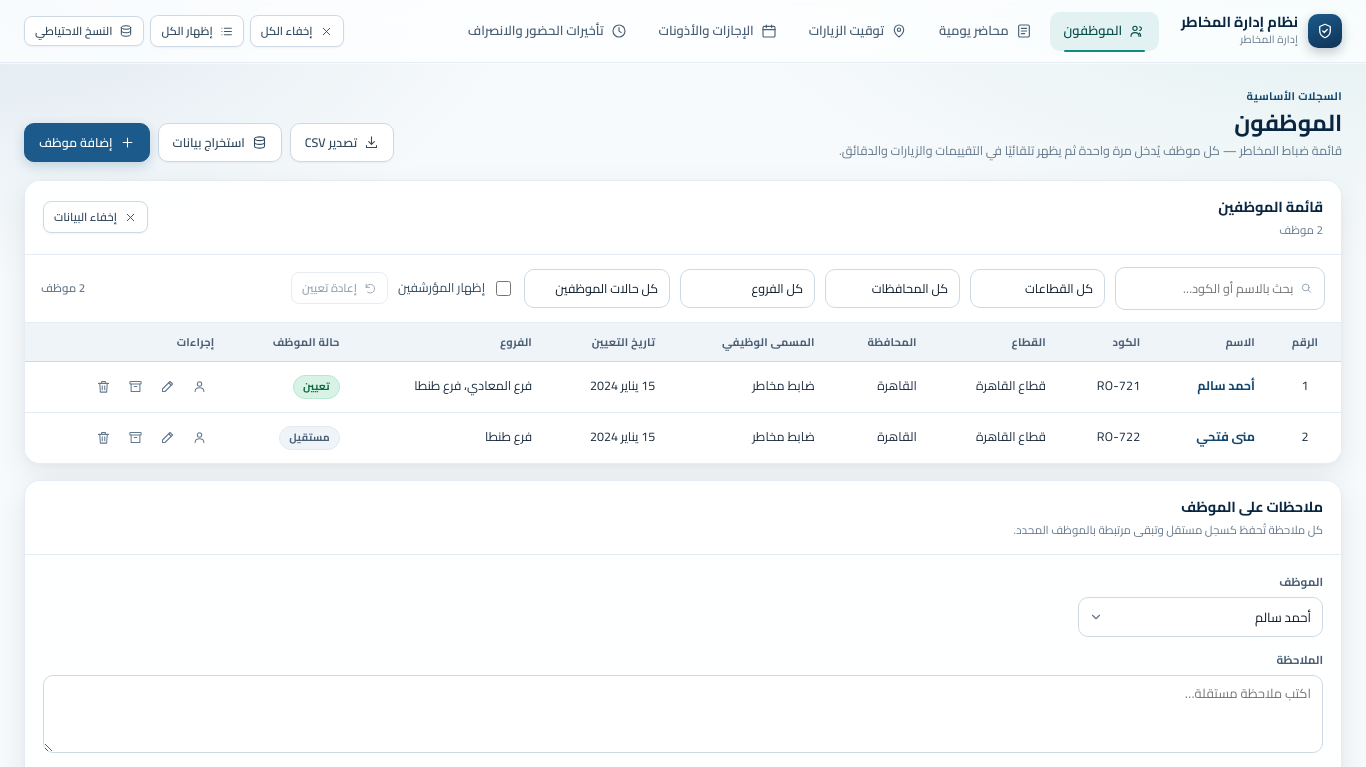
Test: الفلاتر › الموظفون: فلتر الفرع يعمل مع الحالة والبحث ويُعاد تعيينه
The width and height of the screenshot is (1366, 767).
Check: the link "أحمد سالم" is shown, box 1197,374 -> 1255,397
Select "فرع المعادي" in the dropdown named "الفرع" at (748, 288), box 680,268 -> 815,308
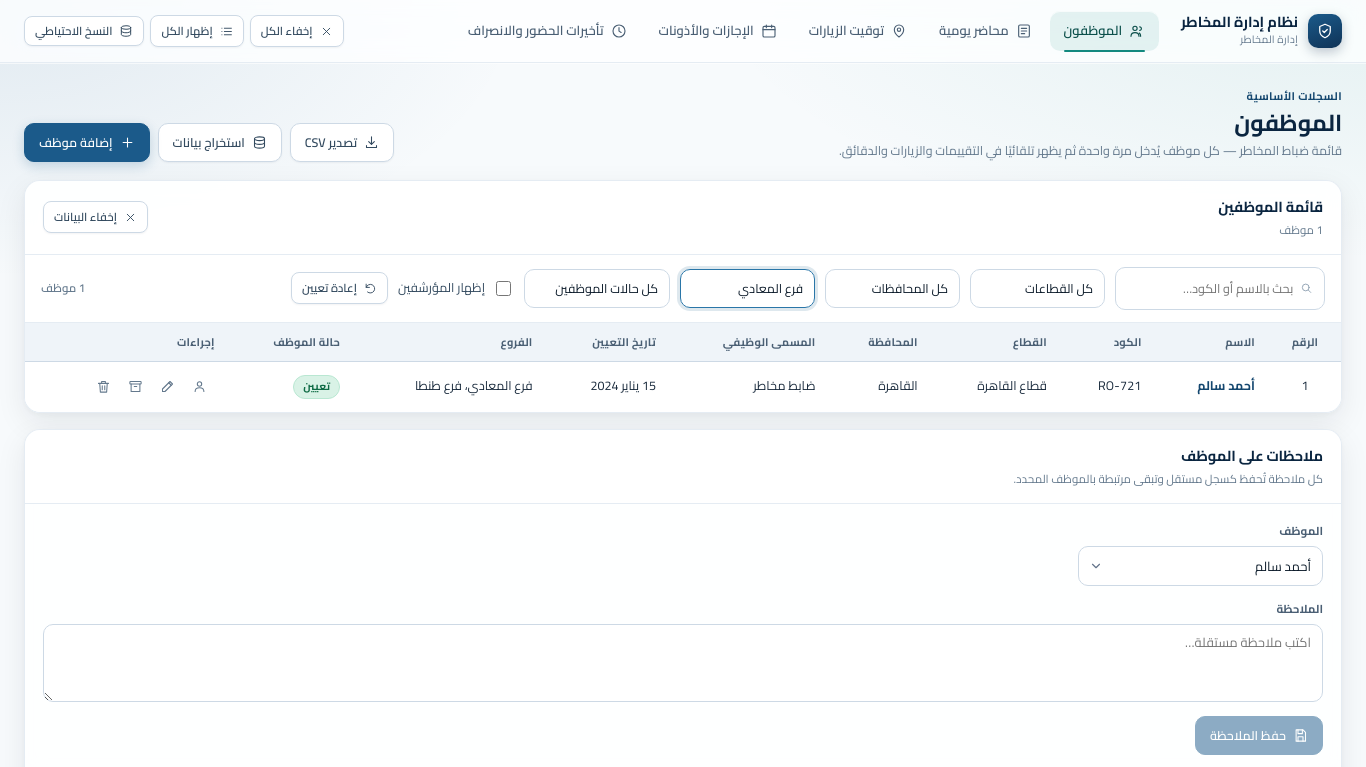
Check: the link "أحمد سالم" is shown, box 1197,374 -> 1255,397
Check: the link "منى فتحي" is gone
Note: فرع مشترك + حالة: لا نتائج
Select "فرع طنطا" in the dropdown named "الفرع" at (748, 288), box 680,268 -> 815,308
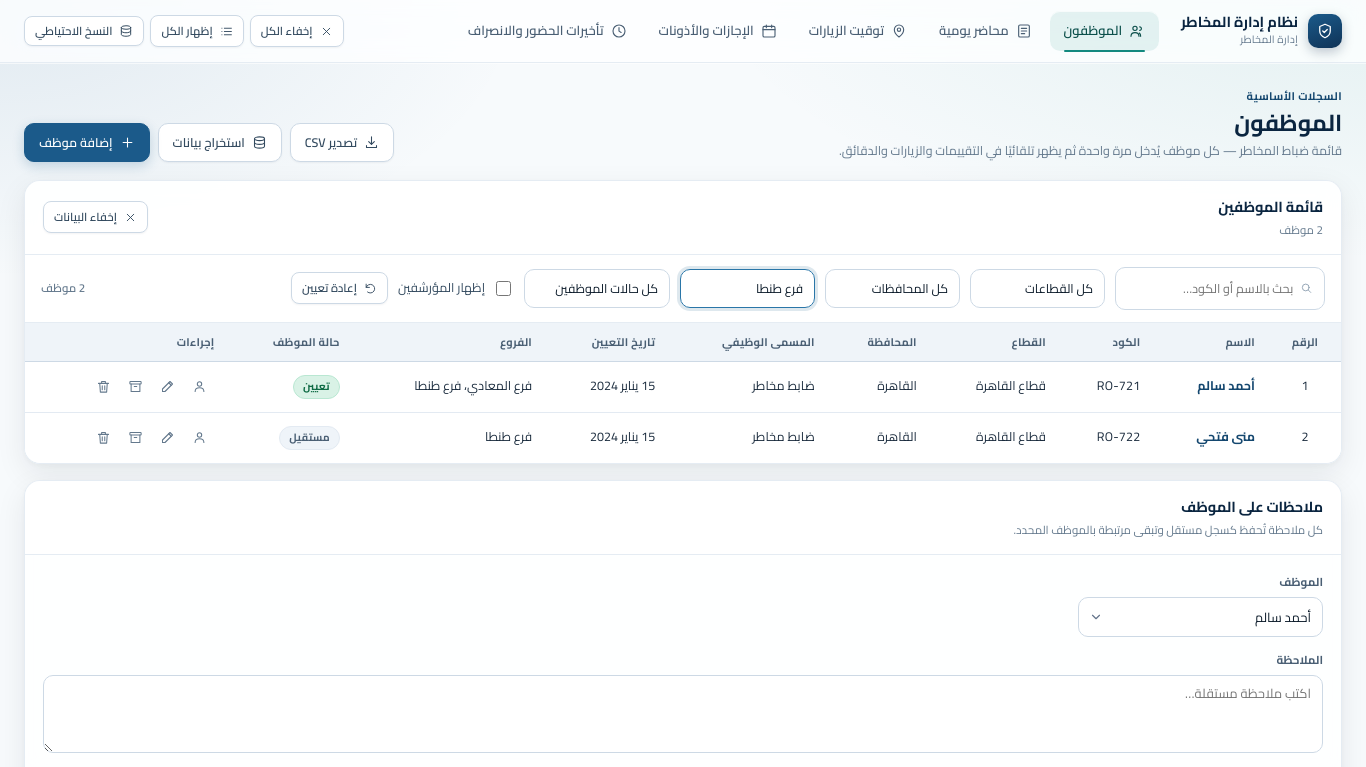
Select "تعيين" in the dropdown named "حالة الموظف" at (597, 288), box 524,268 -> 670,308
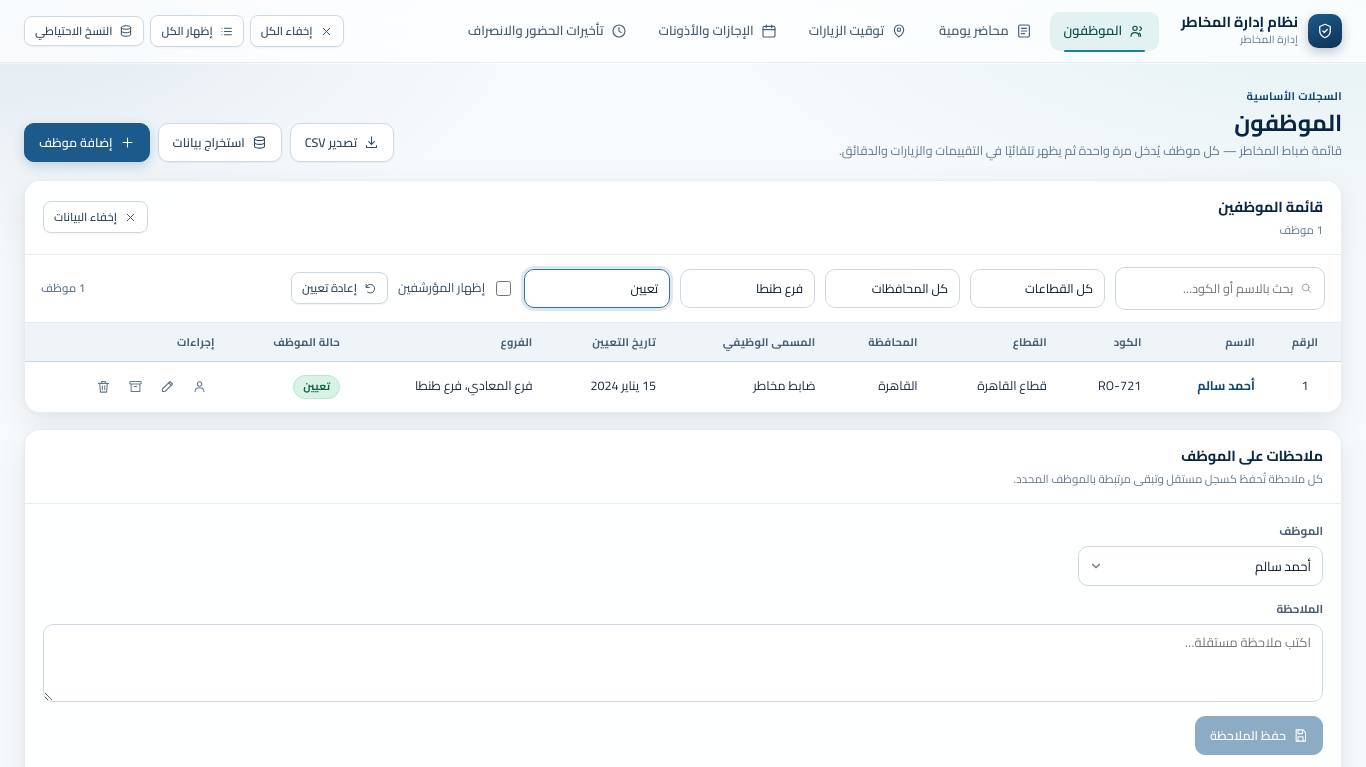
Check: the link "أحمد سالم" is shown, box 1197,374 -> 1255,397
Check: the link "منى فتحي" is gone
Click the button "إعادة تعيين" at (339, 288), box 291,272 -> 388,304
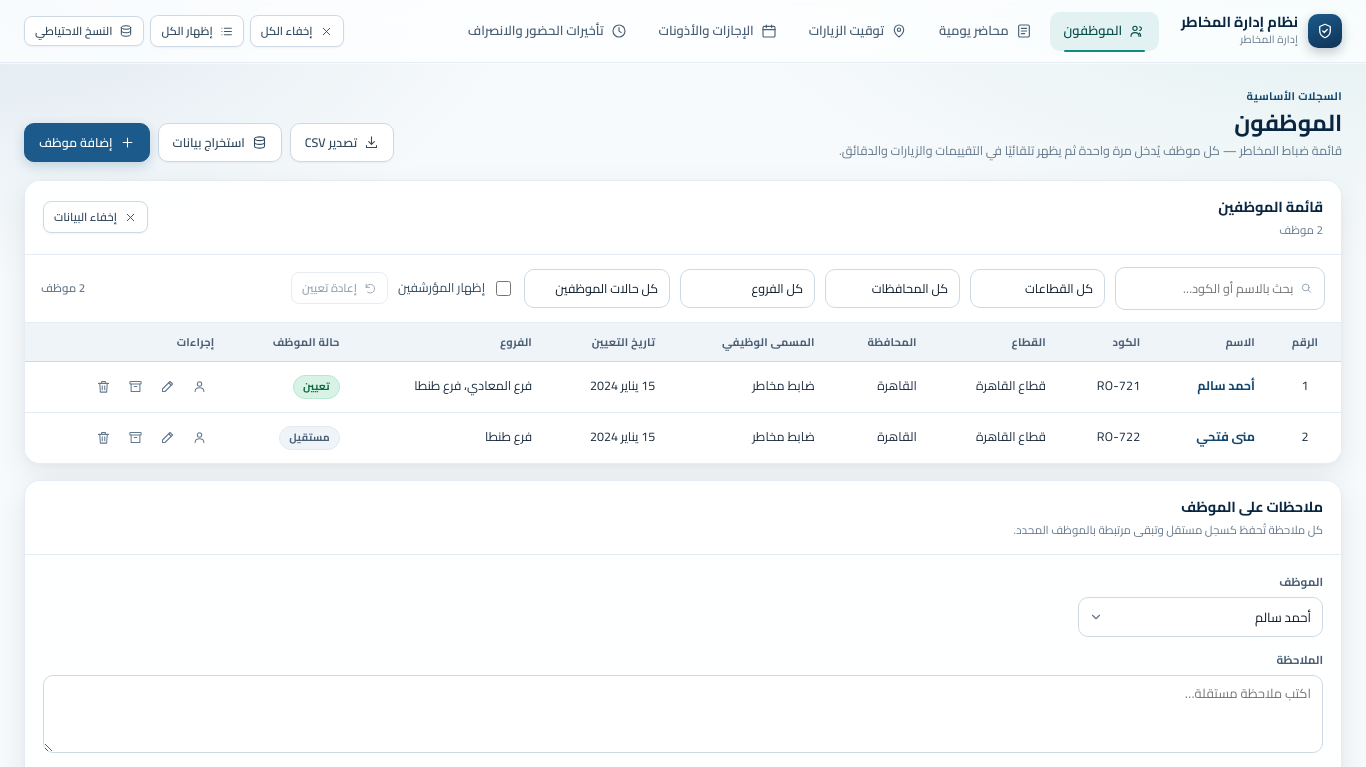
Check: the link "منى فتحي" is shown, box 1196,425 -> 1255,448
